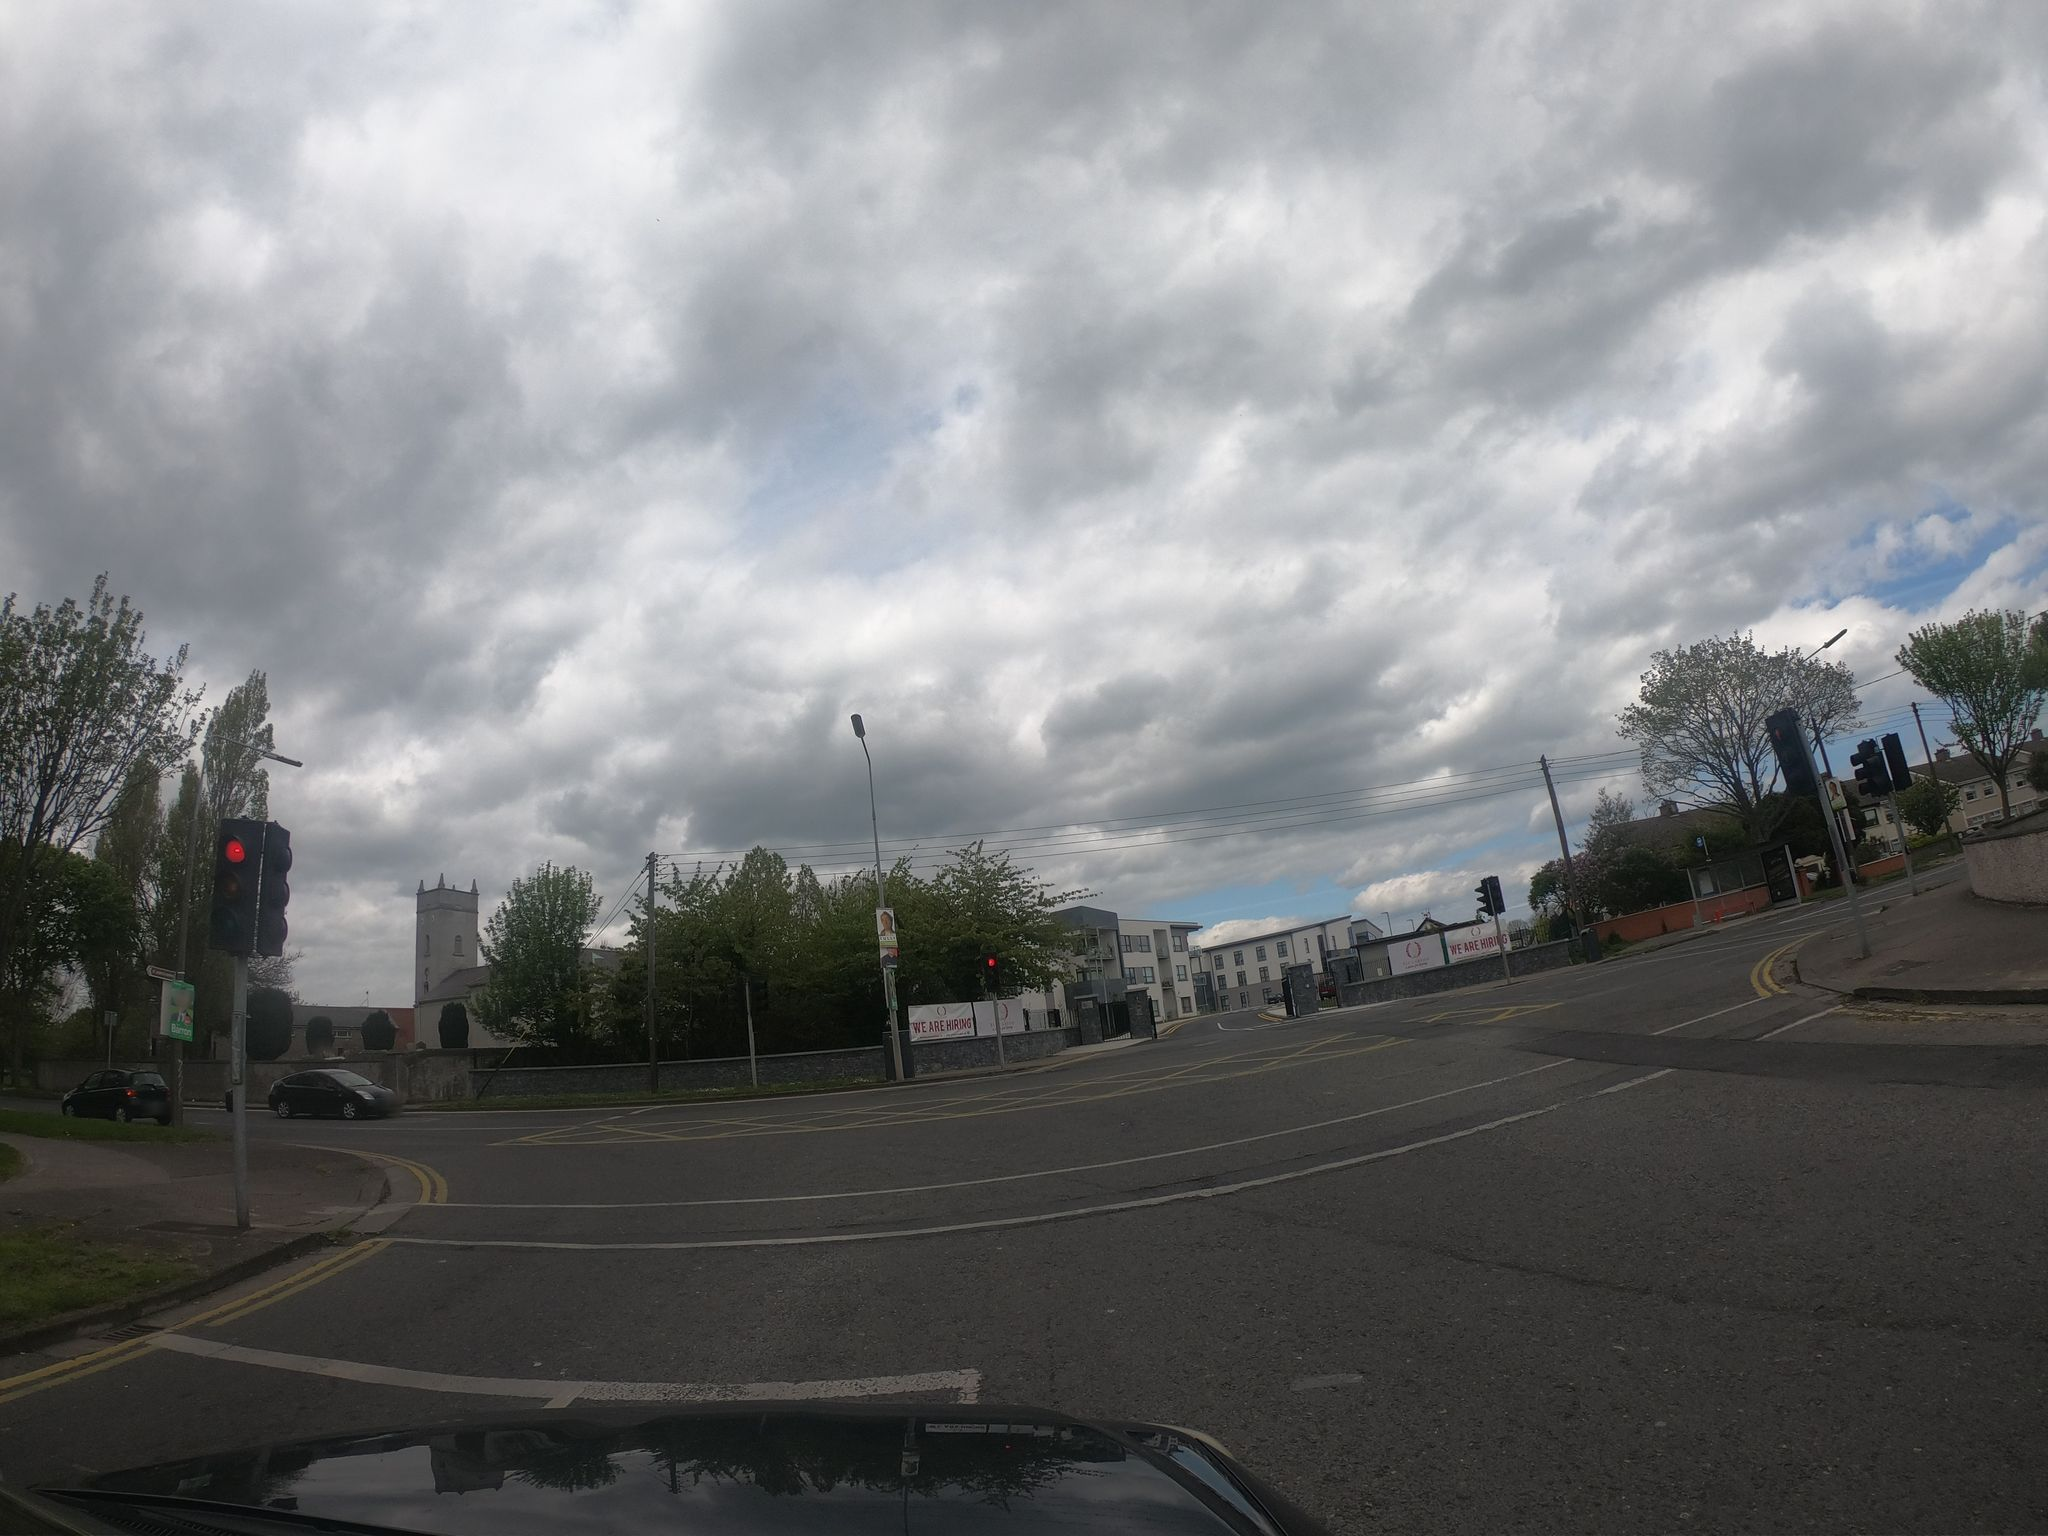vinyl banner: (1434, 910, 1519, 973), (905, 984, 977, 1050)
